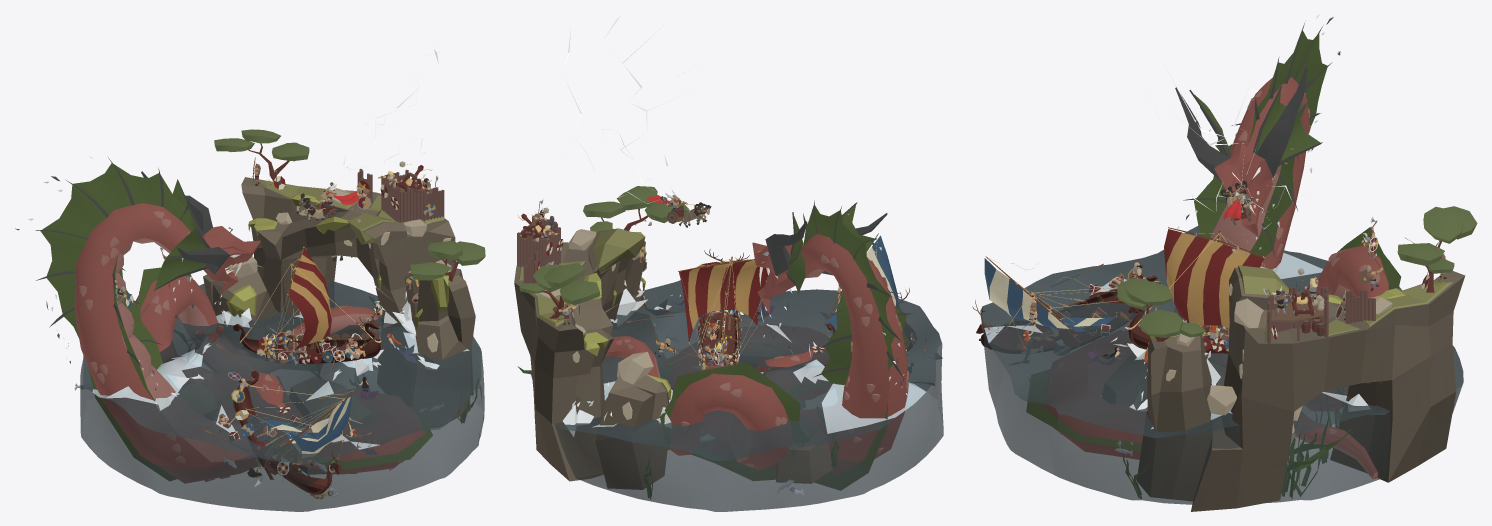
Rendered from thor-serpent.glb.
The picture shows the model from 3 angles, left to right: view 1: azimuth 30°, elevation 25°; view 2: azimuth 150°, elevation 25°; view 3: azimuth 270°, elevation 25°; orthographic projection. The views are drawn at different scales.
Visible parts, largest first — view 1: Plane.044_WaterBake_0, Circle.011_SerpentBake_0, Rock.021_RockBake_0, VikingShipObjects.001_Objects_0, Hide.003_Boat2Bake_0, Keel.002_Boat1Bake_0; view 2: Plane.044_WaterBake_0, Circle.011_SerpentBake_0, Rock.021_RockBake_0, VikingShipObjects.001_Objects_0, Keel.002_Boat1Bake_0; view 3: Rock.021_RockBake_0, Plane.044_WaterBake_0, Circle.011_SerpentBake_0, VikingShipObjects.001_Objects_0, Hide.003_Boat2Bake_0, Keel.002_Boat1Bake_0.
Part boxes in pixels (left/top/right/bottom): Plane.044_WaterBake_0: left=80, top=281, right=484, bottom=511; Circle.011_SerpentBake_0: left=35, top=157, right=432, bottom=483; Rock.021_RockBake_0: left=178, top=177, right=475, bottom=474; VikingShipObjects.001_Objects_0: left=15, top=41, right=485, bottom=498; Hide.003_Boat2Bake_0: left=233, top=370, right=341, bottom=494; Keel.002_Boat1Bake_0: left=233, top=301, right=381, bottom=363; Plane.044_WaterBake_0: left=534, top=280, right=943, bottom=511; Circle.011_SerpentBake_0: left=603, top=200, right=916, bottom=490; Rock.021_RockBake_0: left=514, top=228, right=832, bottom=489; VikingShipObjects.001_Objects_0: left=517, top=15, right=942, bottom=498; Keel.002_Boat1Bake_0: left=699, top=249, right=749, bottom=368; Rock.021_RockBake_0: left=1102, top=265, right=1465, bottom=511; Plane.044_WaterBake_0: left=980, top=226, right=1463, bottom=504; Circle.011_SerpentBake_0: left=1026, top=23, right=1400, bottom=479; VikingShipObjects.001_Objects_0: left=984, top=14, right=1477, bottom=498; Hide.003_Boat2Bake_0: left=972, top=275, right=1161, bottom=353; Keel.002_Boat1Bake_0: left=1128, top=306, right=1228, bottom=353.
Bounding box in the file's own units: 0.4885 × 0.4655 × 0.4696.
Materials: 7 (6 with a texture image).
